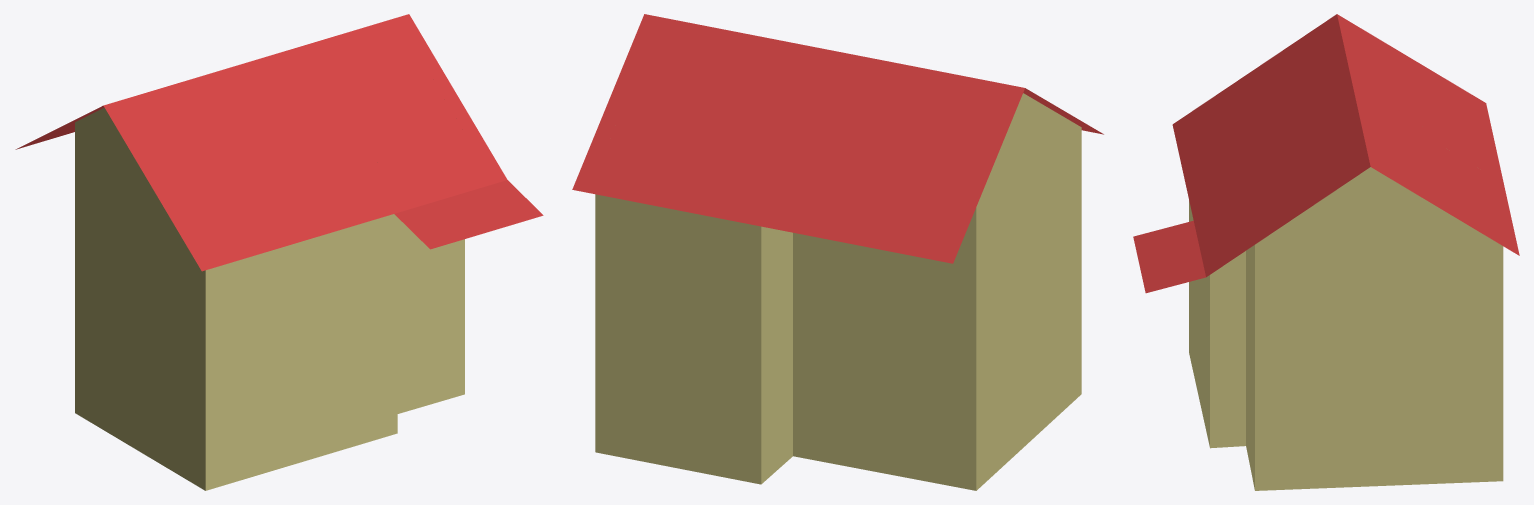
3 renders of one model, left to right at view 1: azimuth 30°, elevation 25°; view 2: azimuth 150°, elevation 25°; view 3: azimuth 270°, elevation 25°, orthographic. The views are drawn at different scales.
Bounding box in the file's own units: 13.19 × 12.85 × 11.95.
